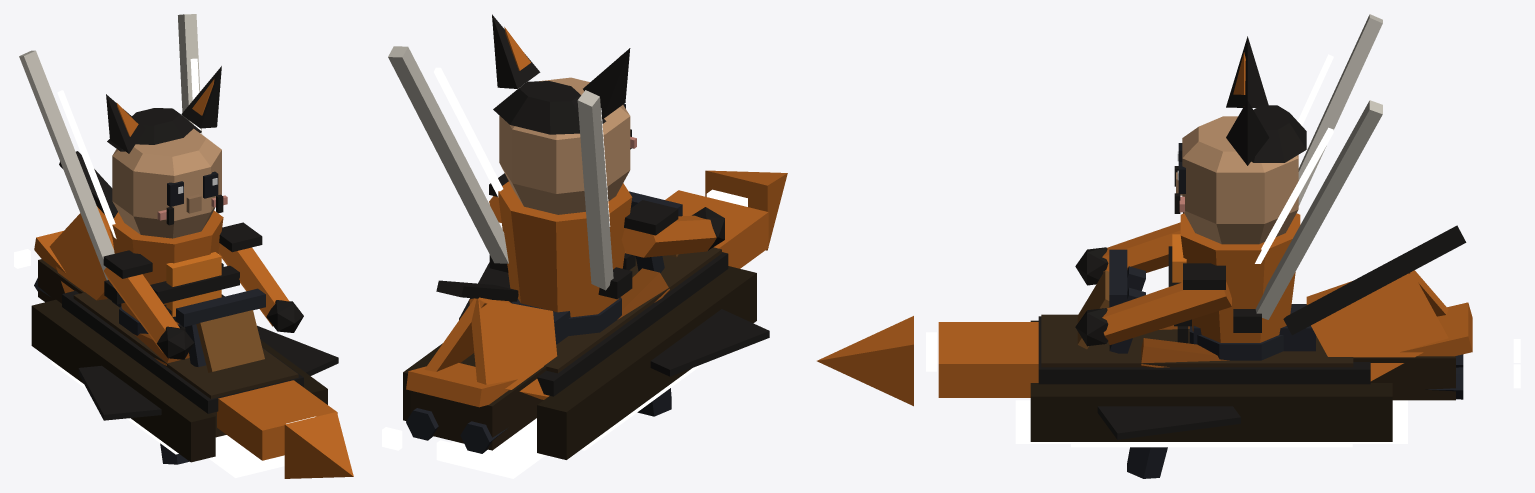
Rendered from hero_tiger.glb.
The picture shows the model from 3 angles, left to right: view 1: azimuth 30°, elevation 25°; view 2: azimuth 150°, elevation 25°; view 3: azimuth 270°, elevation 25°; orthographic projection. The views are drawn at different scales.
Visible parts, largest first — view 1: body, arm_l, glow, arm_r; view 2: body, glow, arm_l; view 3: body, arm_r, glow, arm_l.
Part boxes in pixels (x1=…): body: x1=19, y1=14, x2=353, y2=478; arm_l: x1=103, y1=250, x2=194, y2=359; glow: x1=14, y1=58, x2=315, y2=477; arm_r: x1=218, y1=222, x2=303, y2=332; body: x1=388, y1=14, x2=787, y2=459; glow: x1=382, y1=67, x2=747, y2=478; arm_l: x1=621, y1=200, x2=724, y2=257; body: x1=817, y1=14, x2=1472, y2=478; arm_r: x1=1075, y1=263, x2=1231, y2=346; glow: x1=926, y1=54, x2=1520, y2=447; arm_l: x1=1075, y1=212, x2=1183, y2=285.
Bounding box in the file's own units: 0.8575 × 1.22 × 1.96.
